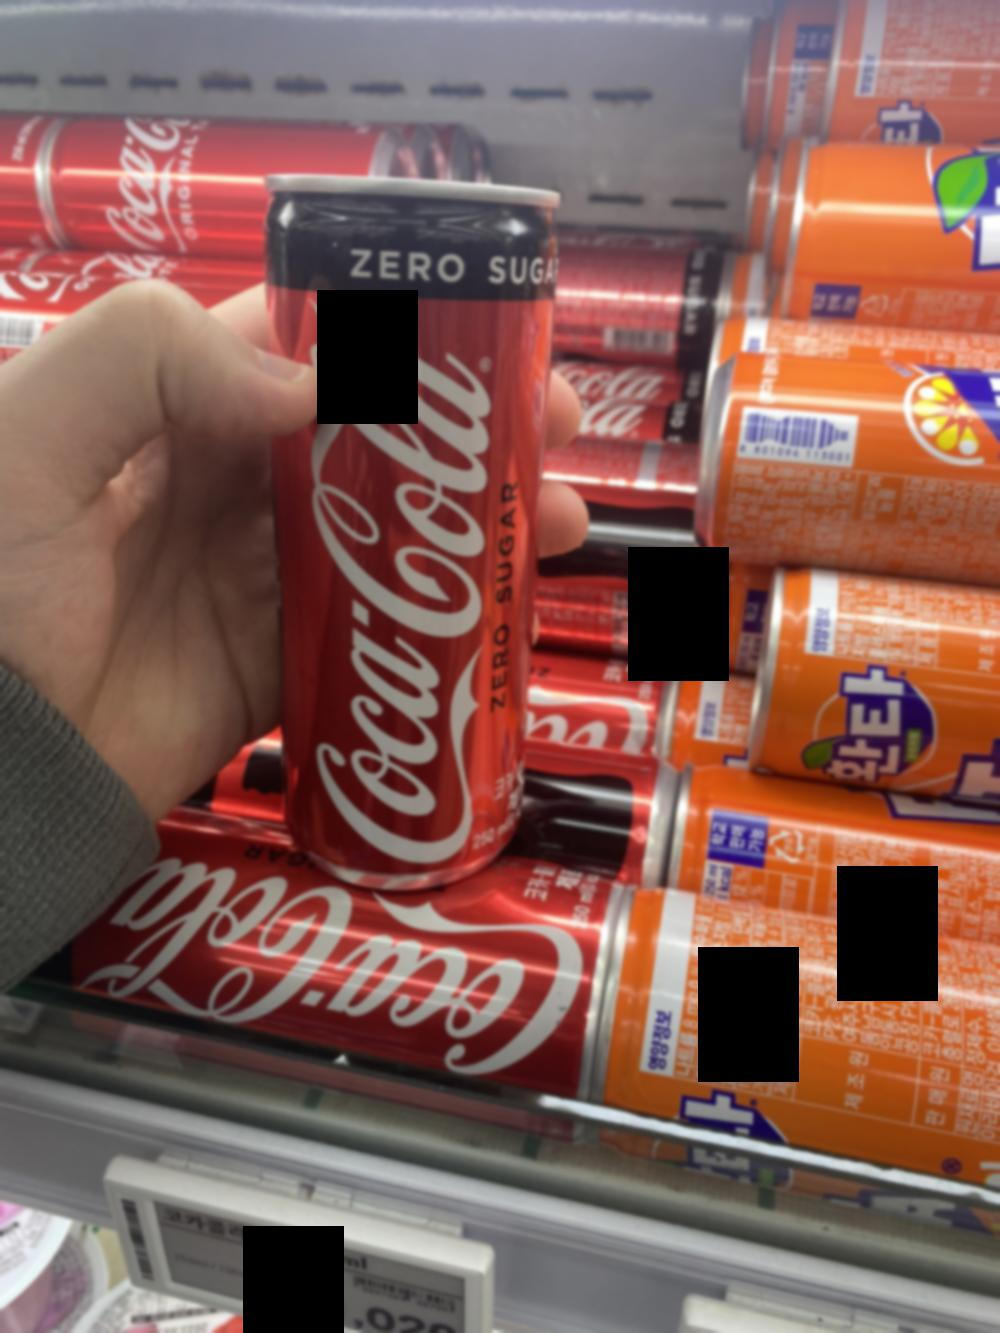cocacola_zero: (261, 171, 557, 891)
